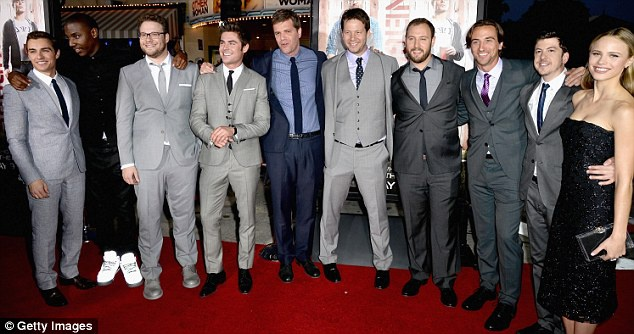bad: (583, 41, 626, 84), (525, 38, 561, 74), (465, 30, 501, 66)
